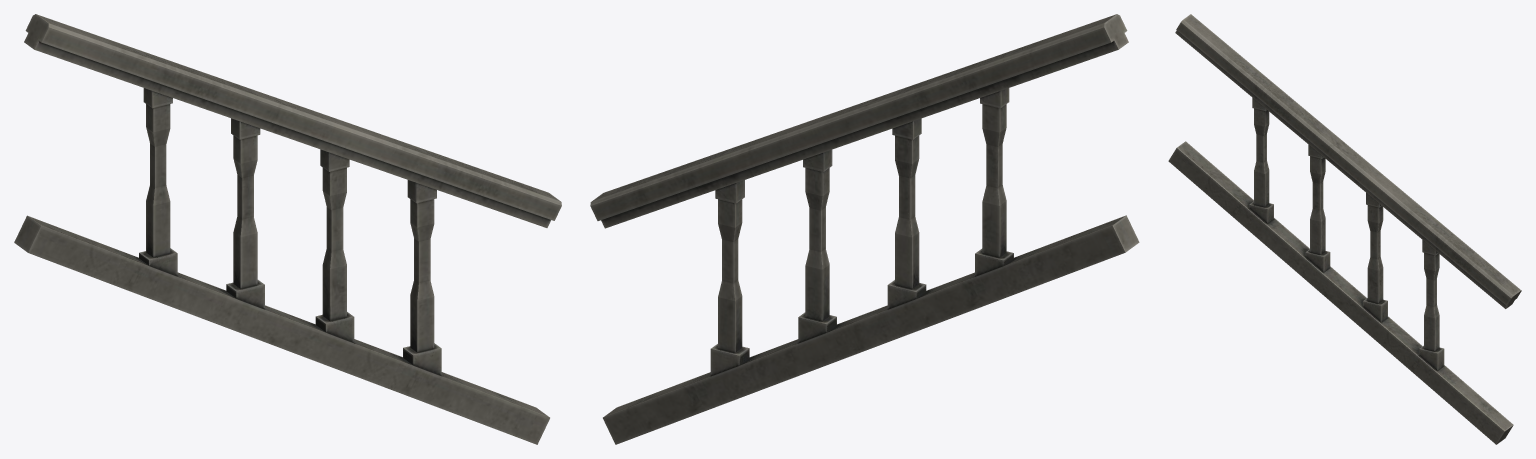
Rendered from SM_Handrails2.fbx.
The picture shows the model from 3 angles, left to right: view 1: azimuth 30°, elevation 25°; view 2: azimuth 150°, elevation 25°; view 3: azimuth 330°, elevation 25°; orthographic projection. The views are drawn at different scales.
Parts seen in each view (by area): view 1: SM_Handrails2; view 2: SM_Handrails2; view 3: SM_Handrails2.
Boxes of the visible parts, x1,y1,x2,y2 form: SM_Handrails2: (14,14,561,444); SM_Handrails2: (590,14,1139,444); SM_Handrails2: (1168,14,1521,444).
Size of the model in its own units: 323 by 16.64 by 312.
